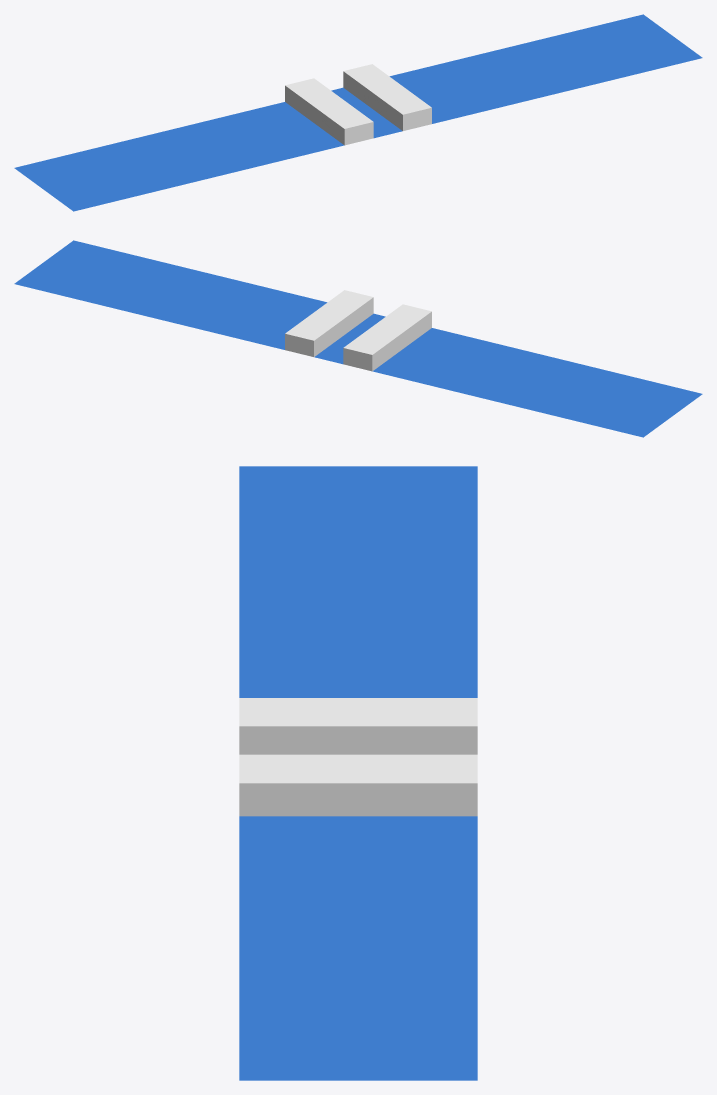
Rendered from RoadHolesLeftRight.fbx.
3 renders of one model, top to bottom at view 1: azimuth 30°, elevation 25°; view 2: azimuth 150°, elevation 25°; view 3: azimuth 270°, elevation 25°, orthographic. The views are drawn at different scales.
Visible parts, largest first — view 1: RoadHolesLeft Right; view 2: RoadHolesLeft Right; view 3: RoadHolesLeft Right.
Part boxes in pixels (<box>): RoadHolesLeft Right: <box>14,14,702,211</box>; RoadHolesLeft Right: <box>14,240,702,437</box>; RoadHolesLeft Right: <box>239,466,477,1080</box>.
Bounding box in the file's own units: 3902 × 97.53 × 640.
